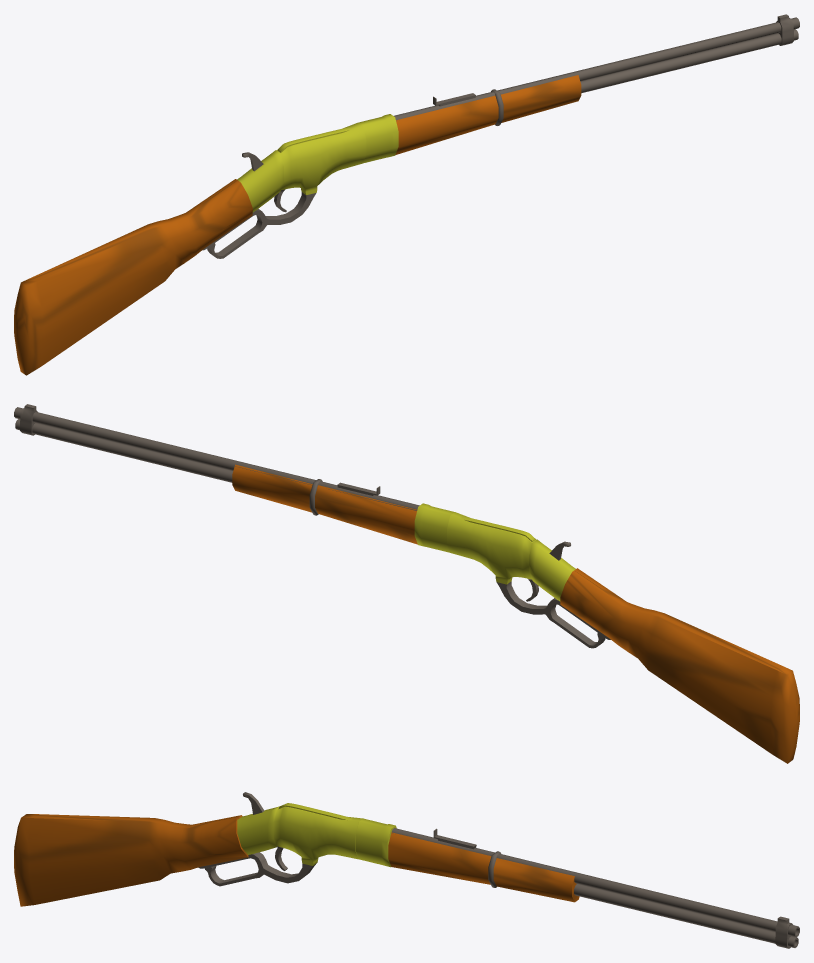
The model's file is rifle.obj.
3 views of the same model, one above another, from view 1: azimuth 30°, elevation 25°; view 2: azimuth 150°, elevation 25°; view 3: azimuth 330°, elevation 25° (orthographic).
Parts seen in each view (by area): view 1: Cylinder_Cylinder.001; view 2: Cylinder_Cylinder.001; view 3: Cylinder_Cylinder.001.
Part boxes in pixels (x1,y1,x2,y2): Cylinder_Cylinder.001: [14, 14, 799, 375]; Cylinder_Cylinder.001: [14, 404, 799, 763]; Cylinder_Cylinder.001: [14, 792, 799, 948].
Bounding box in the file's own units: 2.84 × 0.6067 × 0.0903.
Materials: 2 (1 with a texture image).
